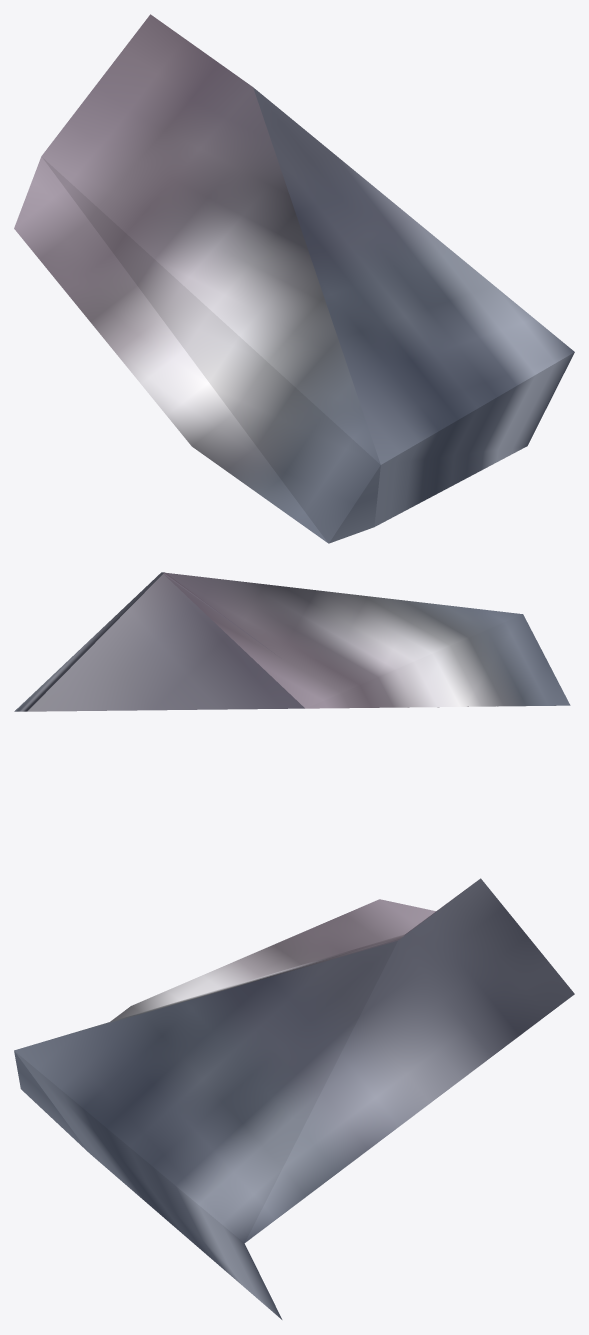
The picture shows the model from 3 angles, top to bottom: view 1: azimuth 30°, elevation 25°; view 2: azimuth 150°, elevation 25°; view 3: azimuth 270°, elevation 25°; orthographic projection. The views are drawn at different scales.
Bounding box in the file's own units: 3.99 × 3.24 × 4.87.
Materials: 1 (1 with a texture image).
